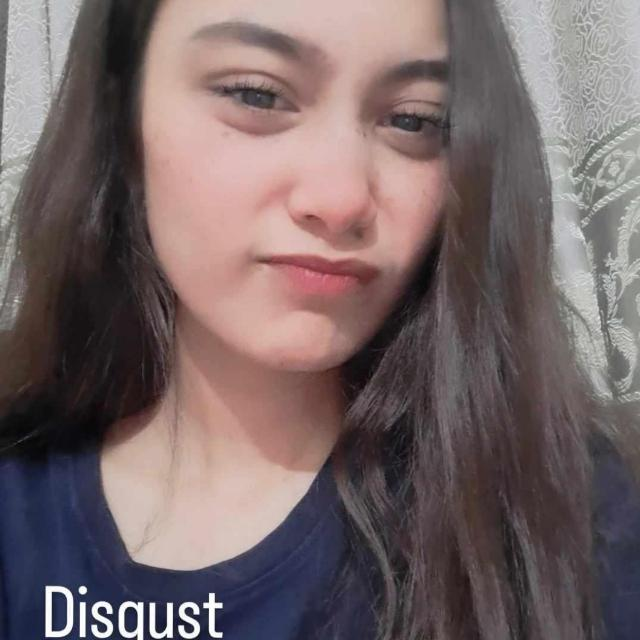Disgust: (96, 0, 570, 421)
